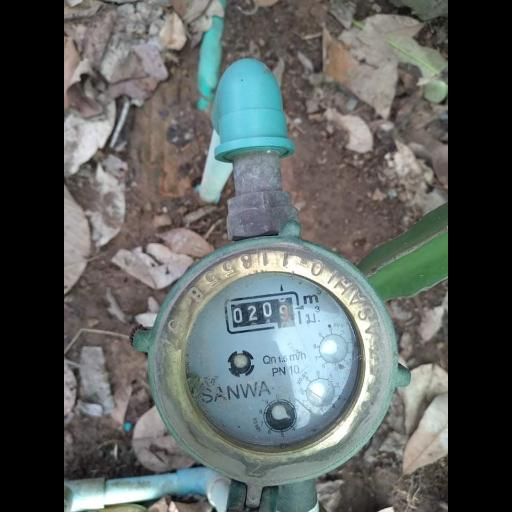0: (258, 299, 278, 324), (230, 303, 246, 328)
2: (243, 301, 261, 326)
9: (275, 297, 295, 328)
border_water_meter_number: (223, 291, 302, 335)
